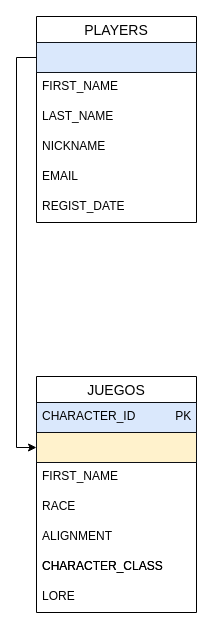
This 213x629 diagram has some shape labels left out. Here are the shapes that lost their labels. From the top down, the centre of each, then its label:
At point 116,57: "PLAYER_ID PK".
At point 116,447: "PLAYER_ID FK".
